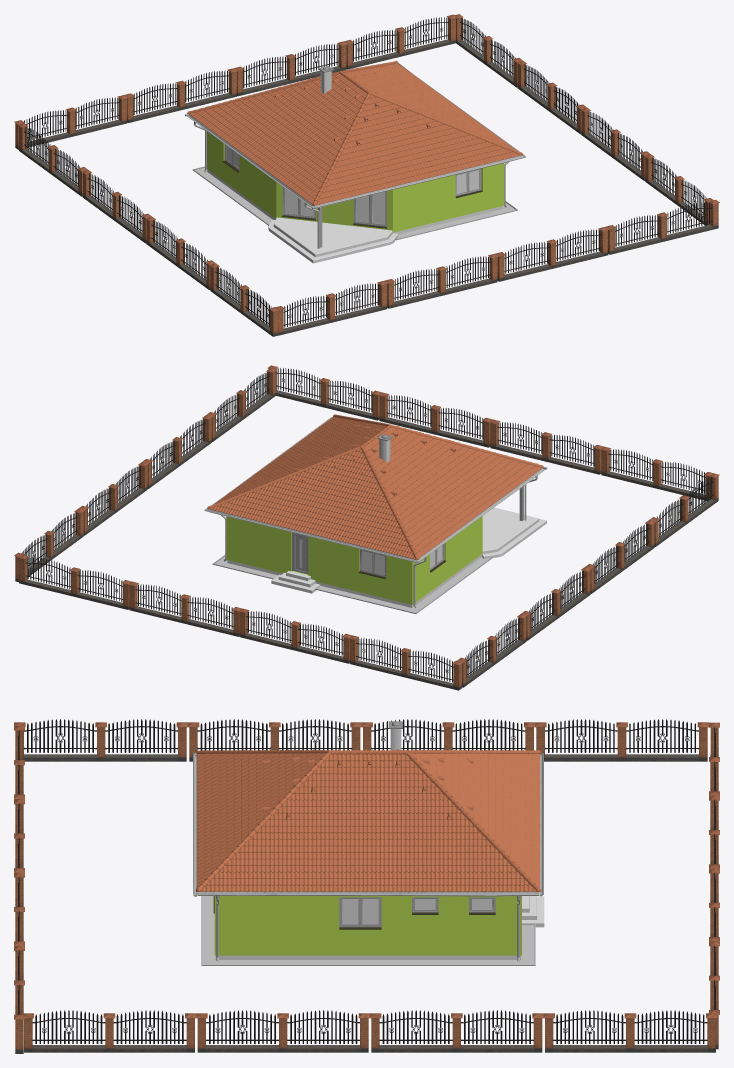
File: hauntedHouse1.fbx
3 renders of one model, top to bottom at view 1: azimuth 30°, elevation 25°; view 2: azimuth 150°, elevation 25°; view 3: azimuth 270°, elevation 25°, orthographic. The views are drawn at different scales.
Visible parts, largest first — view 1: clasic.003, walls, terasa, FenceMain.008, FenceMain.011, FenceMain.010, FenceMain.009, FenceMain.002, FenceMain, FenceMain.001, FenceArray.003, FenceMain.003 (+29 smaller); view 2: clasic.003, walls, terasa, FenceMain.003, FenceMain.010, FenceMain.009, FenceMain.008, FenceMain.002, FenceMain.001, FenceMain, FenceMain.011, FenceArray.003 (+29 smaller); view 3: clasic.003, walls, kacorek, FenceMain.015, FenceMain.012, FenceMain.013, FenceMain.014, FenceMain.004, FenceArray.014, FenceMain.007, FenceArray.012, FenceArray.007 (+17 smaller).
Boxes of the visible parts, bbox=[...] form: clasic.003: bbox=[184, 61, 525, 248]; walls: bbox=[207, 131, 504, 232]; terasa: bbox=[268, 217, 398, 263]; FenceMain.008: bbox=[326, 280, 387, 322]; FenceMain.011: bbox=[657, 200, 719, 241]; FenceMain.010: bbox=[547, 226, 609, 268]; FenceMain.009: bbox=[436, 253, 498, 295]; FenceMain.002: bbox=[125, 80, 186, 122]; FenceMain: bbox=[344, 27, 405, 69]; FenceMain.001: bbox=[234, 54, 295, 96]; FenceArray.003: bbox=[75, 95, 127, 135]; FenceMain.003: bbox=[14, 107, 76, 149]; clasic.003: bbox=[204, 414, 547, 607]; walls: bbox=[226, 516, 482, 604]; terasa: bbox=[482, 507, 546, 558]; FenceMain.003: bbox=[400, 648, 462, 690]; FenceMain.010: bbox=[378, 392, 440, 434]; FenceMain.009: bbox=[489, 419, 551, 461]; FenceMain.008: bbox=[600, 446, 662, 488]; FenceMain.002: bbox=[290, 621, 351, 663]; FenceMain.001: bbox=[180, 594, 241, 636]; FenceMain: bbox=[70, 567, 131, 609]; FenceMain.011: bbox=[267, 365, 329, 407]; FenceArray.003: bbox=[348, 635, 401, 676]; clasic.003: bbox=[193, 721, 543, 961]; walls: bbox=[214, 896, 521, 955]; kacorek: bbox=[202, 896, 534, 964]; FenceMain.015: bbox=[624, 1010, 717, 1052]; FenceMain.012: bbox=[103, 1010, 196, 1052]; FenceMain.013: bbox=[277, 1010, 369, 1052]; FenceMain.014: bbox=[451, 1010, 543, 1052]; FenceMain.004: bbox=[535, 719, 627, 761]; FenceArray.014: bbox=[370, 1010, 452, 1052]; FenceMain.007: bbox=[14, 719, 106, 761]; FenceArray.012: bbox=[22, 1010, 105, 1052]; FenceArray.007: bbox=[105, 719, 187, 761].
Bounding box in the file's own units: 2652 × 691 × 2665.
